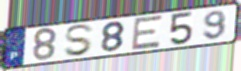5: (168, 10, 196, 47)
8: (32, 27, 57, 63), (100, 20, 126, 53)
9: (201, 9, 230, 41)
E: (129, 14, 164, 52)
S: (62, 23, 96, 58)
